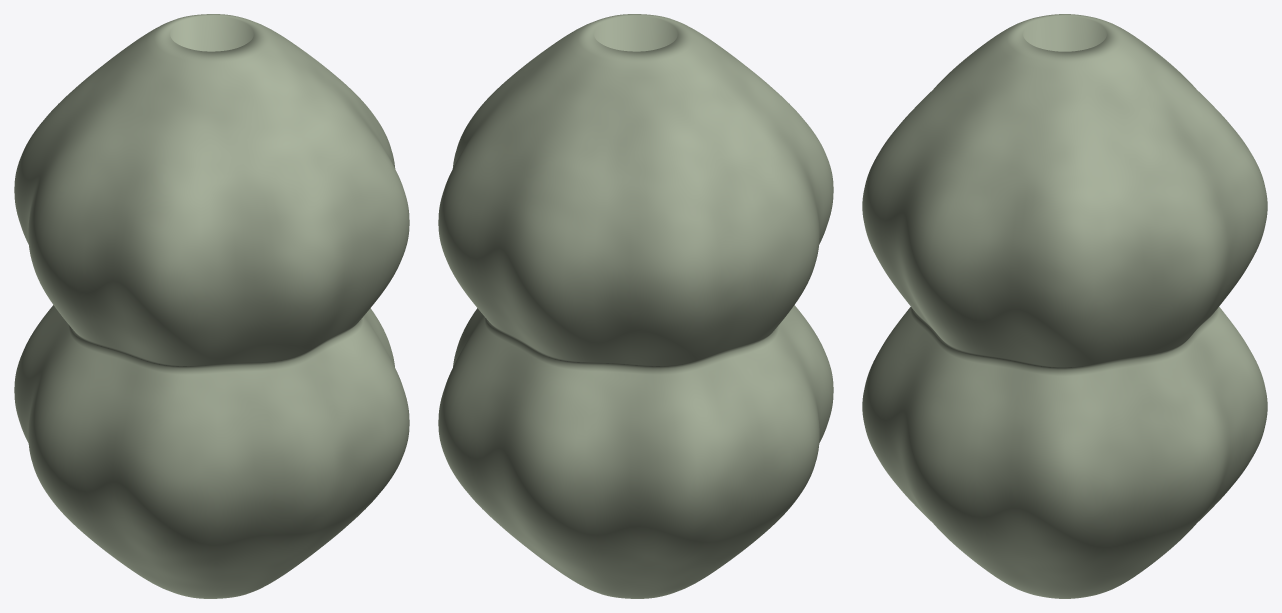
File: double-lotus.glb
The picture shows the model from 3 angles, left to right: view 1: azimuth 30°, elevation 25°; view 2: azimuth 150°, elevation 25°; view 3: azimuth 270°, elevation 25°; orthographic projection.
Visible parts, largest first — view 1: double-lotus; view 2: double-lotus; view 3: double-lotus.
Boxes of the visible parts, x1,y1,x2,y2 form: double-lotus: [14, 14, 409, 598]; double-lotus: [438, 14, 833, 598]; double-lotus: [862, 14, 1267, 598].
Size of the model in its own units: 0.0058 by 0.0086 by 0.0058.
